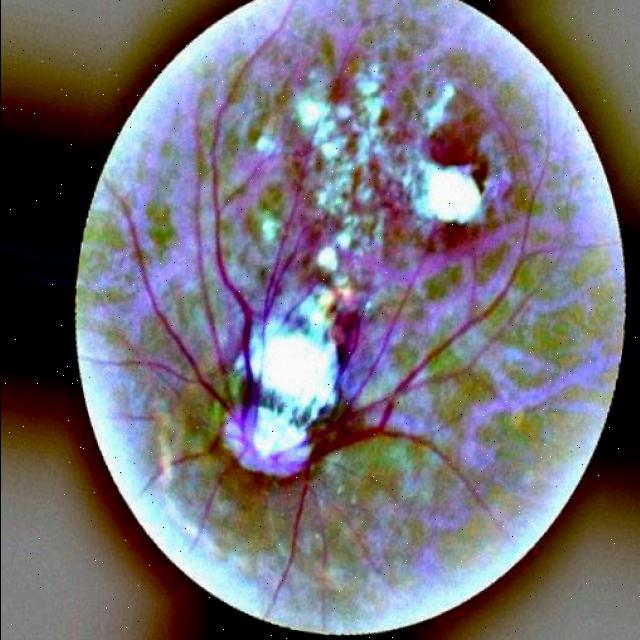Macula: (427, 100, 497, 233)
Nerves: (262, 427, 500, 614), (100, 212, 244, 440), (206, 20, 283, 395)
Optic Disk: (218, 286, 358, 479)
